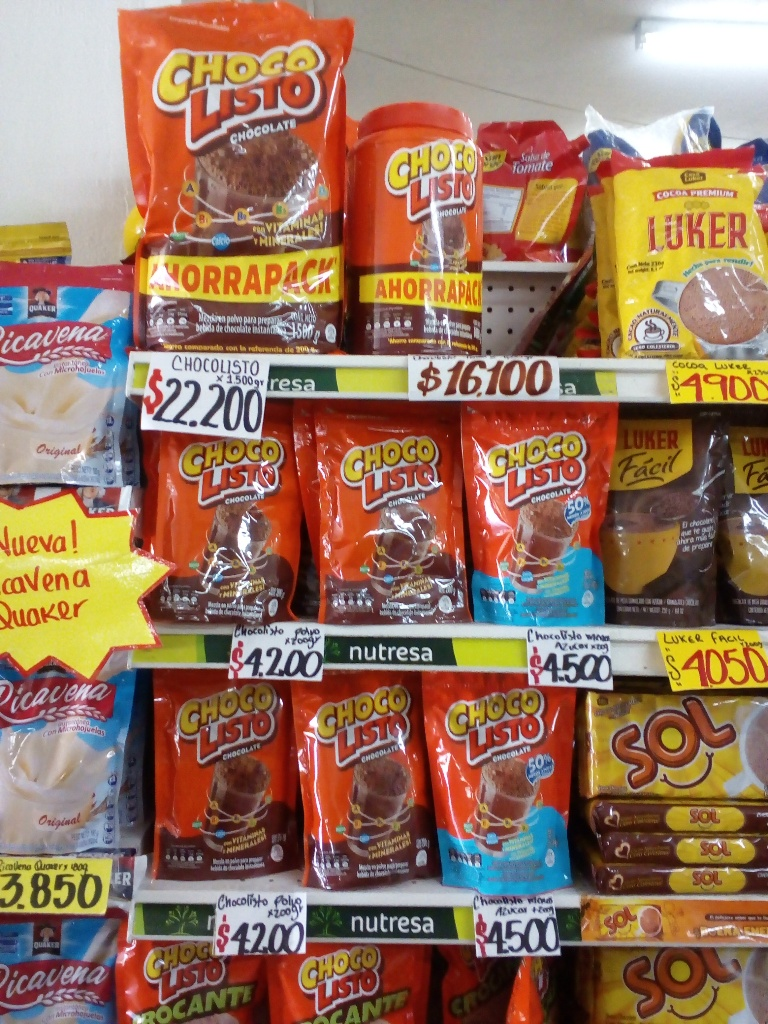COL0170103TRR00100: (341, 92, 481, 354)
COL0170104DYP20000: (469, 406, 602, 623)
